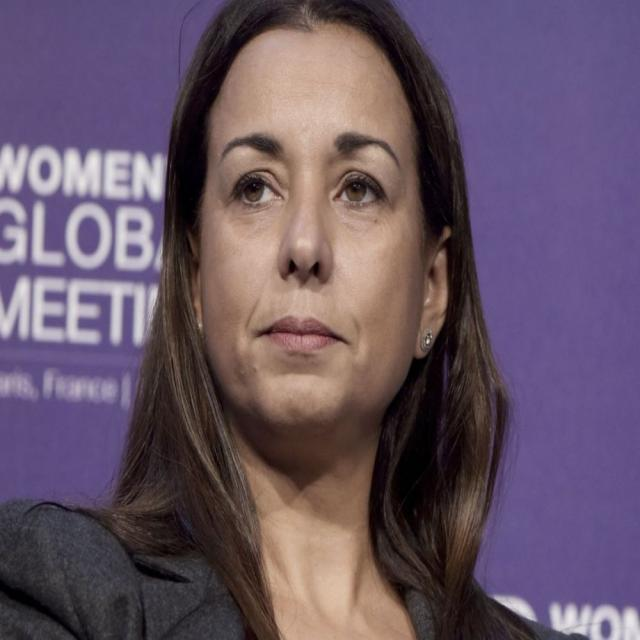human: (75, 1, 562, 640)
